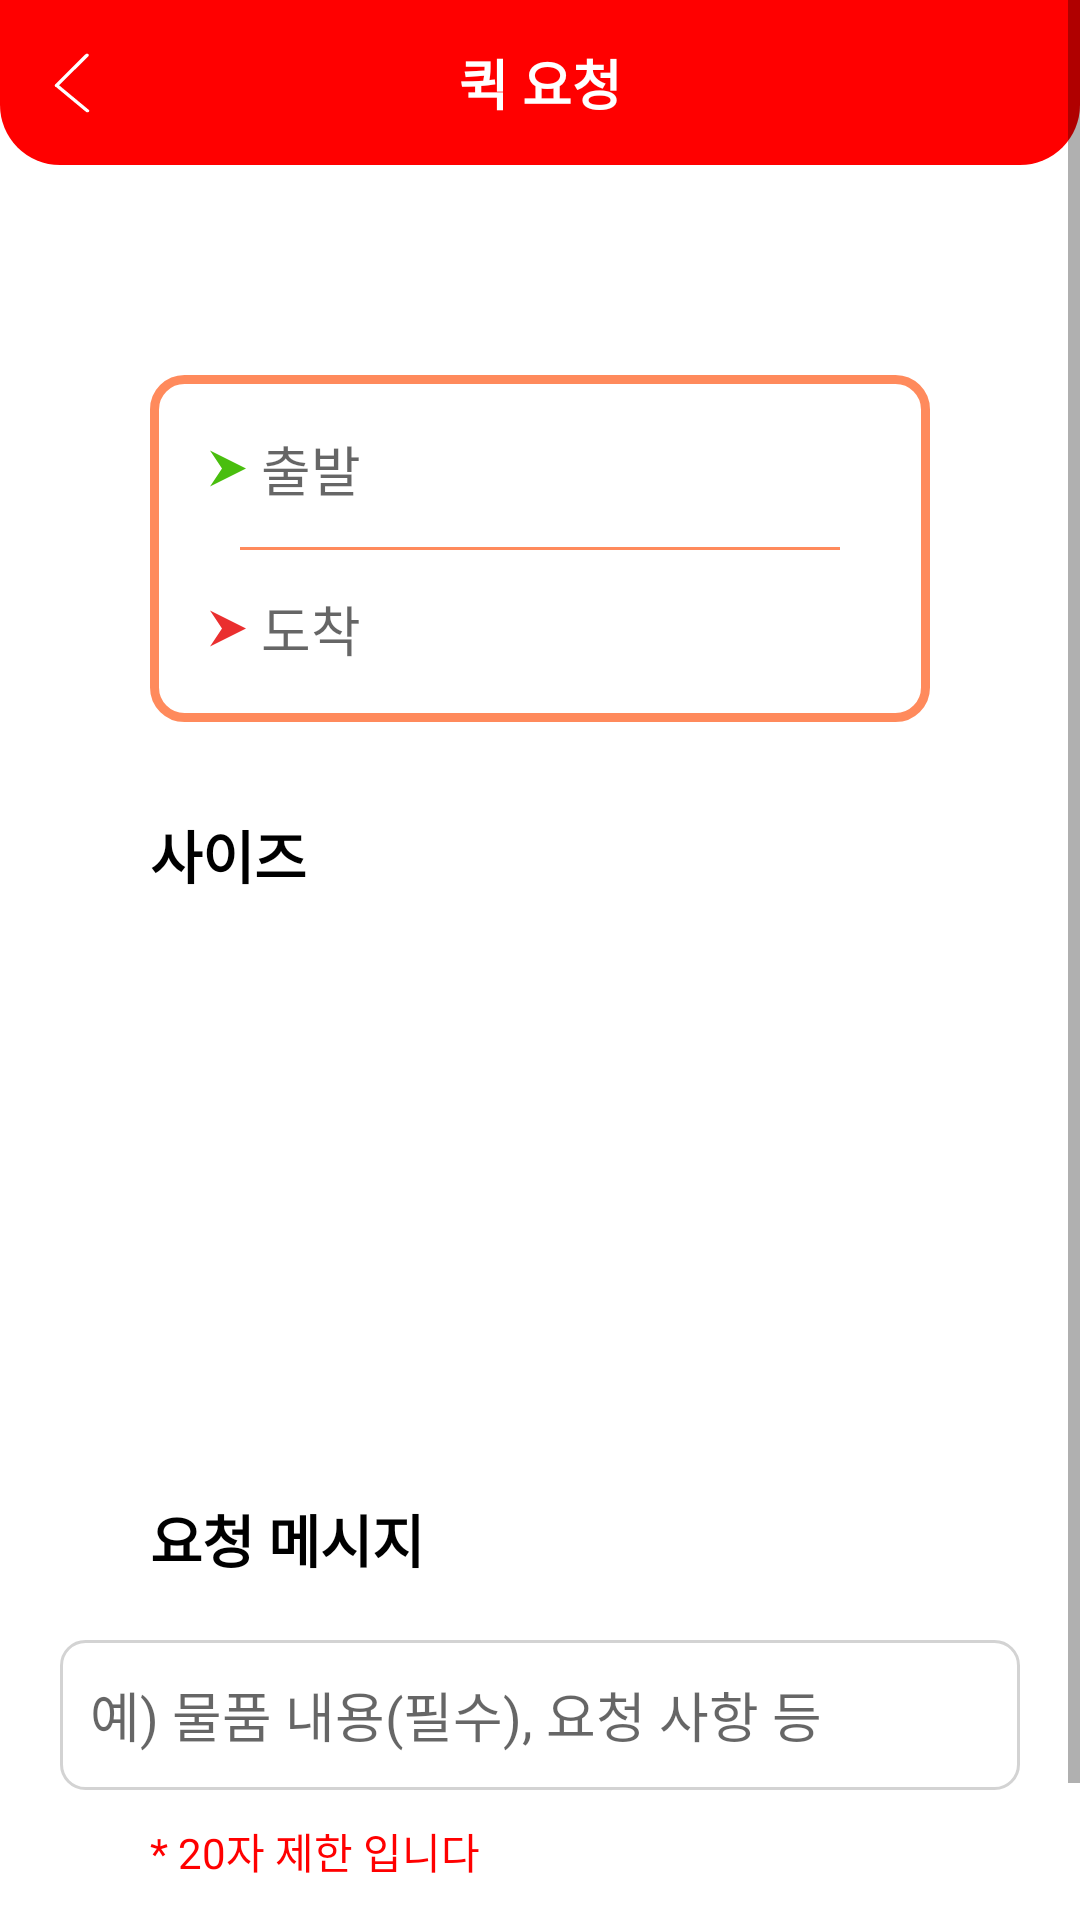

Screen size 1080 x 1920. Icon name, then its center in pixels as (x,y):
back: (72,83)
